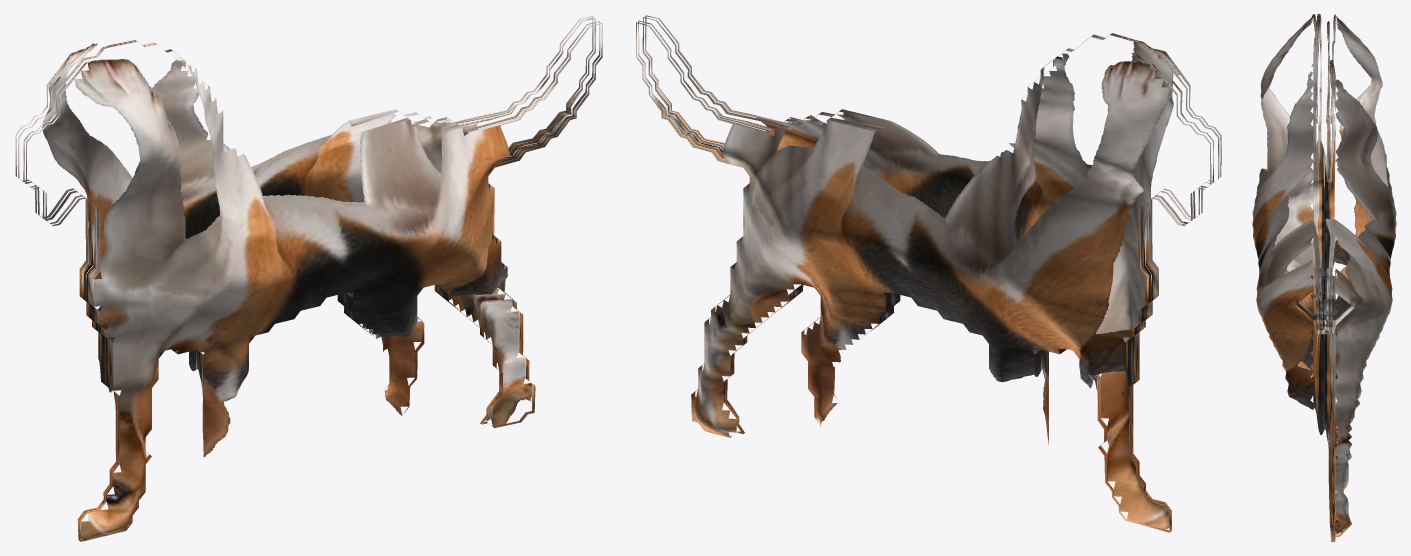
The model's file is dog.glb.
3 renders of one model, left to right at view 1: azimuth 30°, elevation 25°; view 2: azimuth 150°, elevation 25°; view 3: azimuth 270°, elevation 25°, orthographic. The views are drawn at different scales.
Visible parts, largest first — view 1: reconstruction_artistique_non_anatomique_dog; view 2: reconstruction_artistique_non_anatomique_dog; view 3: reconstruction_artistique_non_anatomique_dog.
Boxes of the visible parts, box(x1,y1,x2,y2) form: reconstruction_artistique_non_anatomique_dog: box(15, 16, 602, 541); reconstruction_artistique_non_anatomique_dog: box(636, 15, 1221, 532); reconstruction_artistique_non_anatomique_dog: box(1252, 14, 1396, 541).
Bounding box in the file's own units: 3.43 × 2.84 × 0.9801.
1 material, 1 textured.
